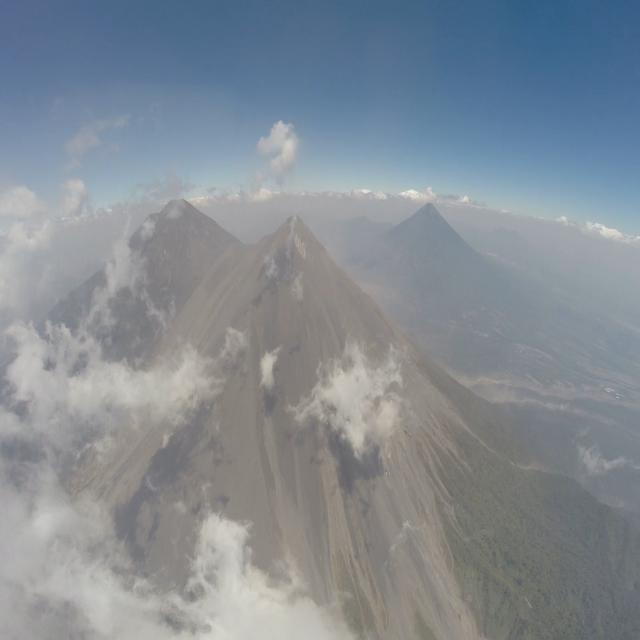Summit: (259, 209, 342, 267)
